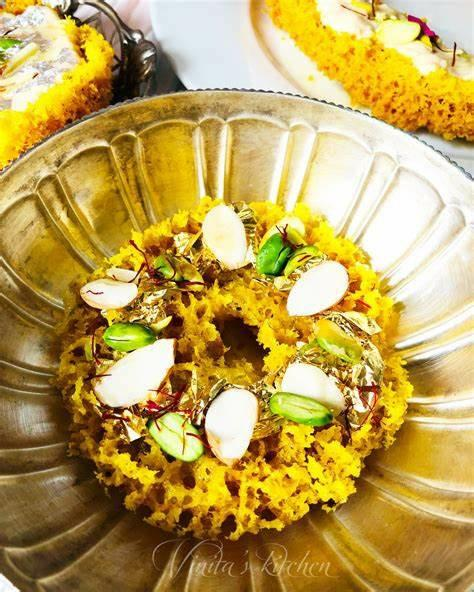Ghevar: (53, 190, 410, 541), (269, 0, 474, 141), (0, 2, 119, 167)
